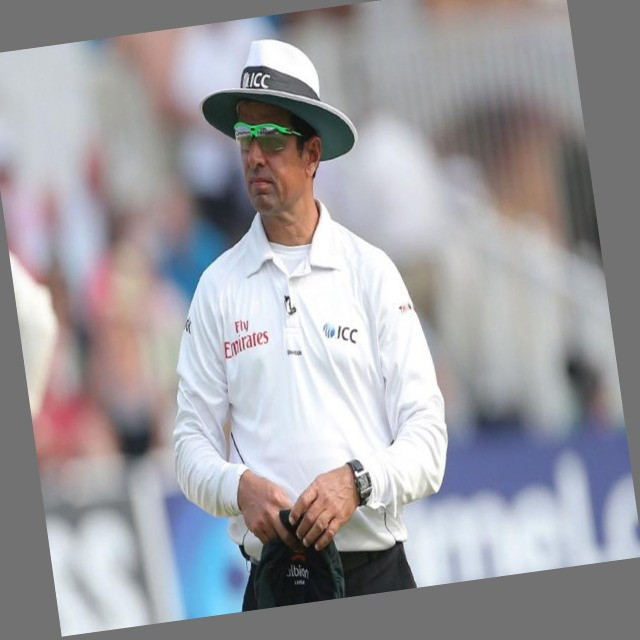No_Action: (113, 1, 482, 618)
